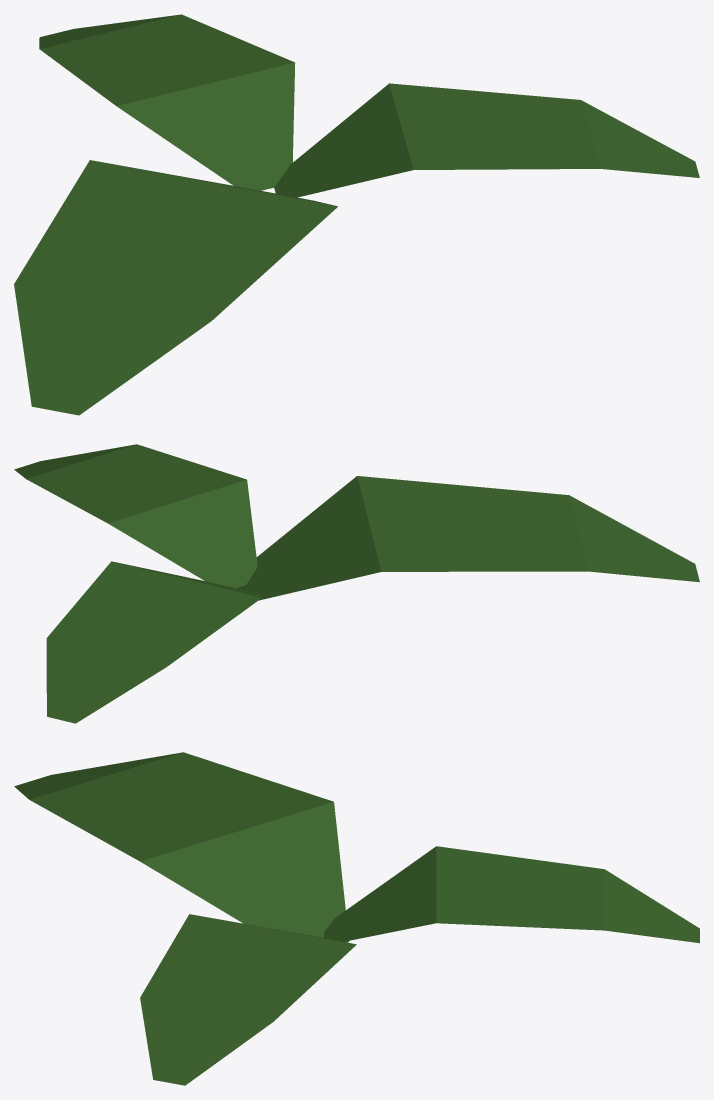
Rendered from Plant_1.fbx.
The picture shows the model from 3 angles, top to bottom: view 1: azimuth 30°, elevation 25°; view 2: azimuth 150°, elevation 25°; view 3: azimuth 270°, elevation 25°; orthographic projection. The views are drawn at different scales.
Visible parts, largest first — view 1: Plant_1; view 2: Plant_1; view 3: Plant_1.
Part boxes in pixels (x1=…): Plant_1: x1=14, y1=14, x2=699, y2=415; Plant_1: x1=14, y1=444, x2=699, y2=723; Plant_1: x1=14, y1=752, x2=699, y2=1085.
Size of the model in its own units: 93.12 by 9.17 by 84.66.
